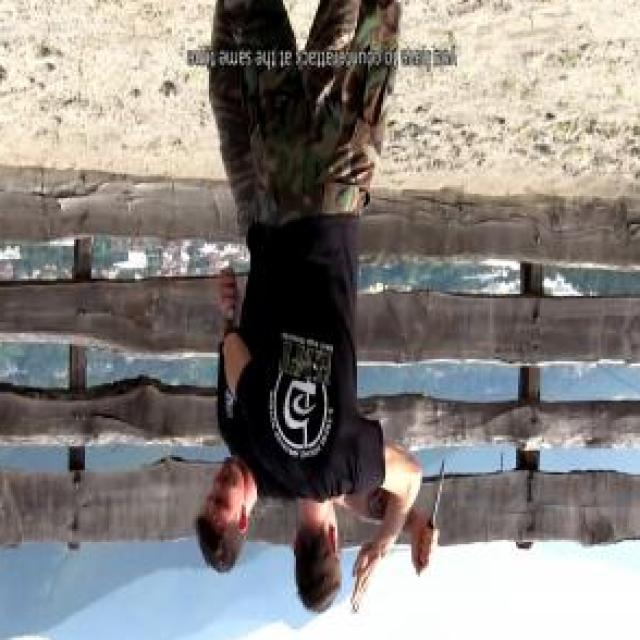knife: (414, 452, 450, 579)
